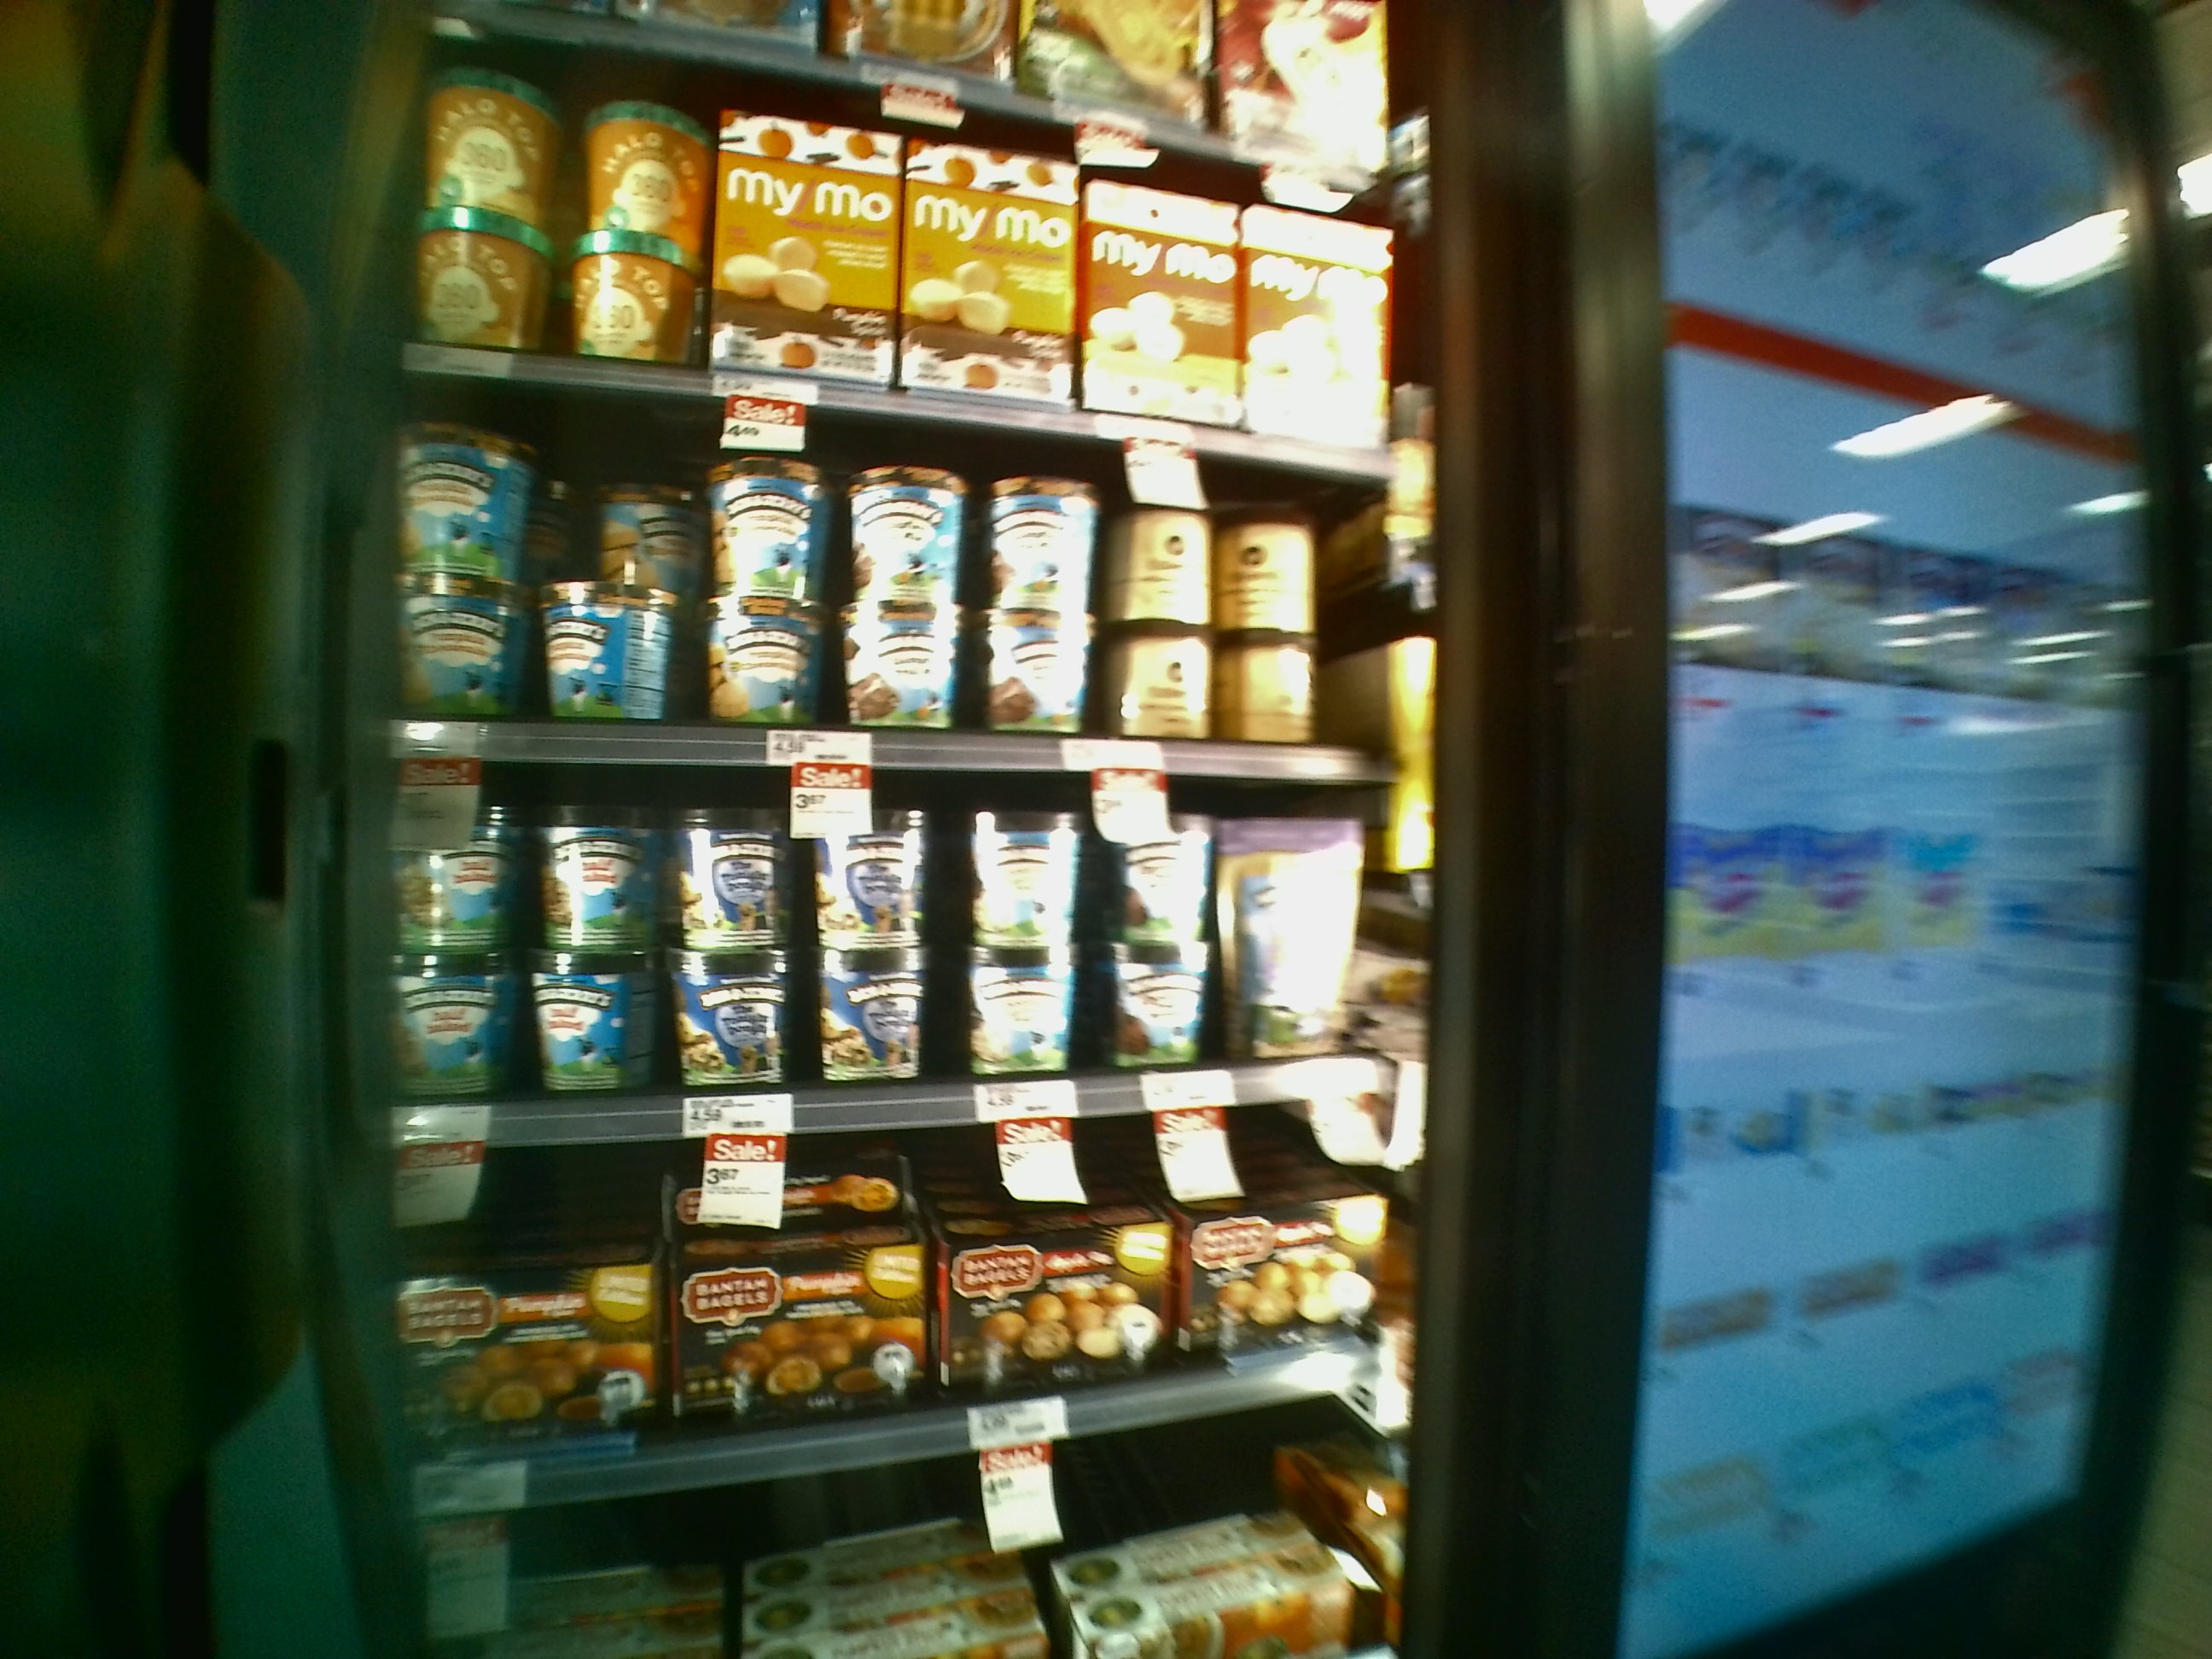shelf: (359, 336, 1432, 774), (350, 708, 1437, 1129), (359, 1121, 1388, 1459)
